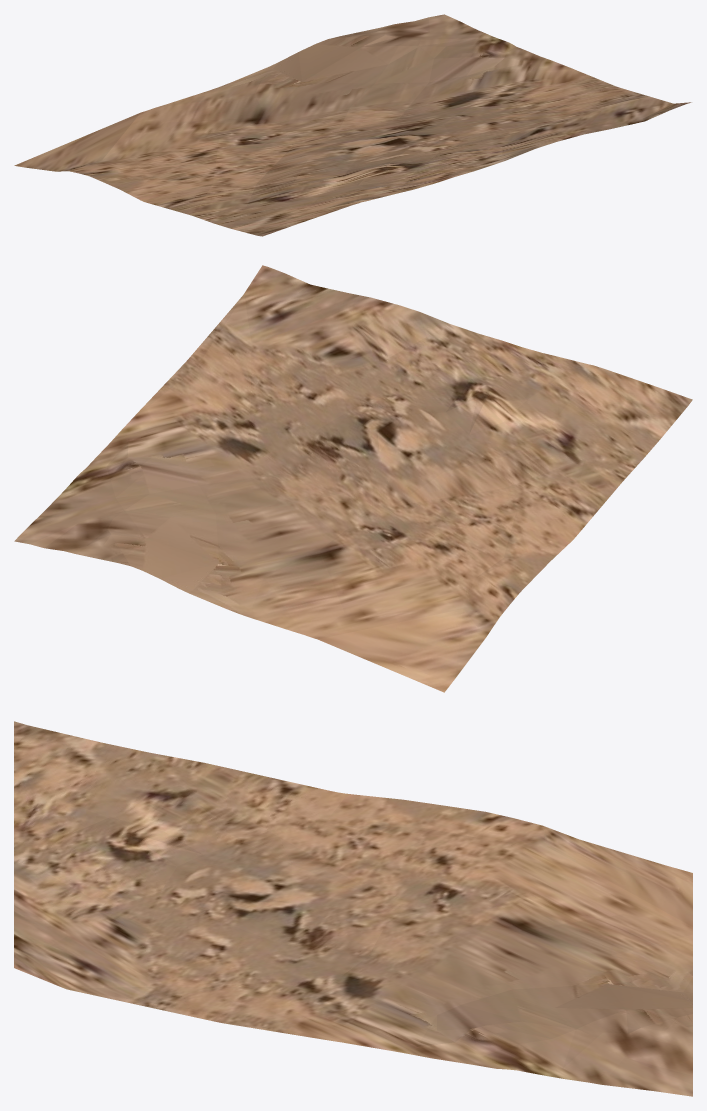
The picture shows the model from 3 angles, top to bottom: view 1: azimuth 30°, elevation 25°; view 2: azimuth 150°, elevation 25°; view 3: azimuth 270°, elevation 25°; orthographic projection. The views are drawn at different scales.
Size of the model in its own units: 1.04 by 0.3258 by 1.04.
Materials: 3 (3 with a texture image).
